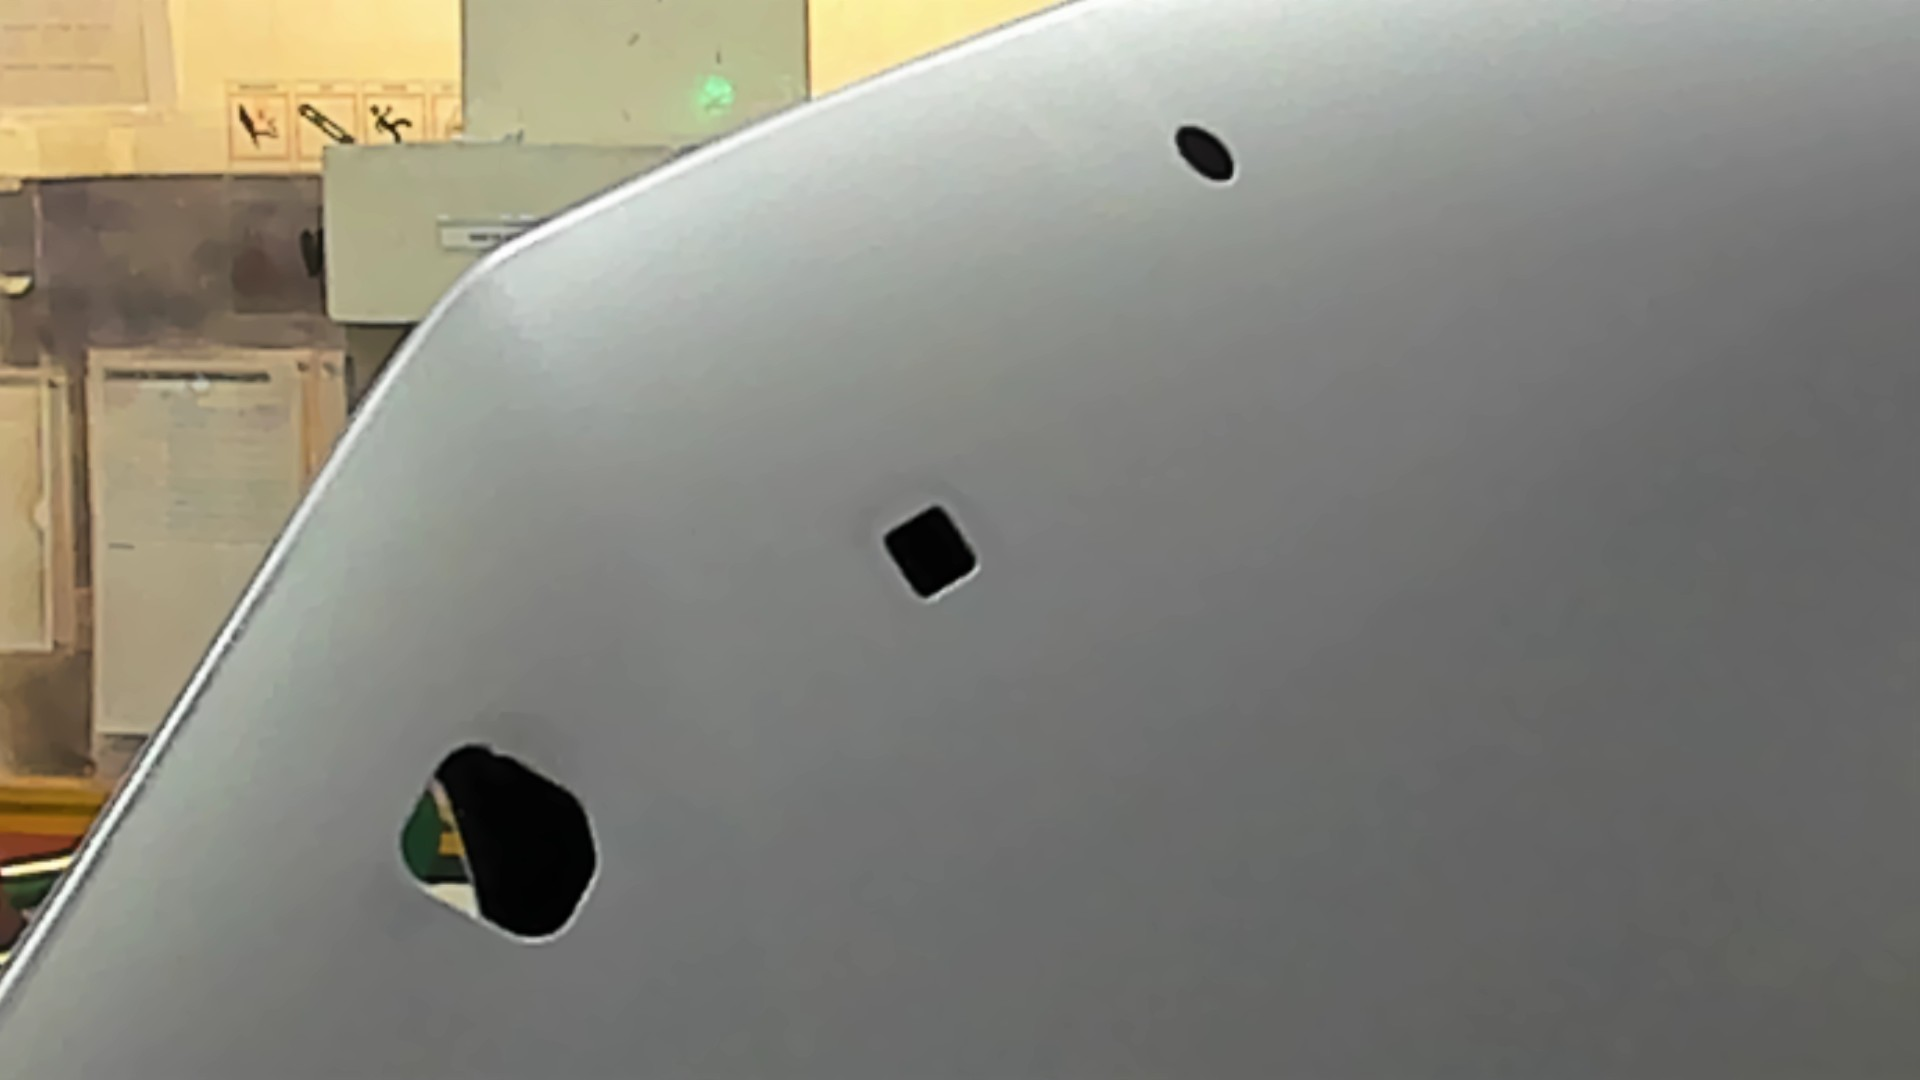chico: (1160, 113, 1245, 199)
grande: (373, 727, 618, 969)
mediano: (864, 492, 997, 609)
